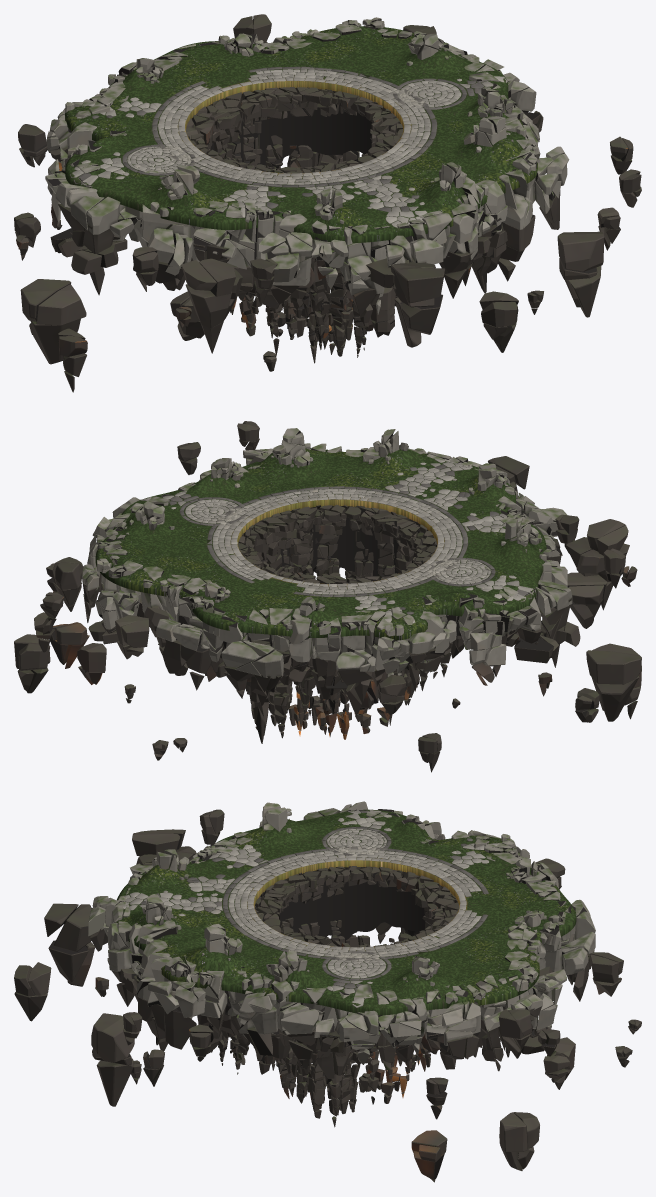
File: EmberIsland.gltf
The picture shows the model from 3 angles, top to bottom: view 1: azimuth 30°, elevation 25°; view 2: azimuth 150°, elevation 25°; view 3: azimuth 270°, elevation 25°; orthographic projection. The views are drawn at different scales.
Parts seen in each view (by area): view 1: Deck, Shards, Cavern, Rock6, Rock5, Rock7, Mass, Rock4, Paving6, Rock0, Paving0, Paving7 (+8 smaller); view 2: Deck, Shards, Cavern, Rock1, Rock2, Rock0, Rock7, Rock3, Paving6, Paving0, Rock6, Rock5 (+8 smaller); view 3: Deck, Shards, Cavern, Rock4, Rock3, Rock5, Rock2, Mass, Paving6, Rock1, Rock6, Paving0 (+8 smaller).
Part boxes in pixels (<box>): Deck: <box>65,26,537,242</box>; Shards: <box>14,14,641,392</box>; Cavern: <box>186,87,403,363</box>; Rock6: <box>231,188,443,357</box>; Rock5: <box>371,116,561,337</box>; Rock7: <box>55,165,254,300</box>; Mass: <box>192,89,372,290</box>; Rock4: <box>328,83,569,354</box>; Paving6: <box>240,166,415,227</box>; Rock0: <box>45,102,126,251</box>; Paving0: <box>70,103,199,183</box>; Paving7: <box>82,150,264,207</box>; Deck: <box>95,448,546,640</box>; Shards: <box>14,421,641,772</box>; Cavern: <box>238,504,445,739</box>; Rock1: <box>219,596,396,738</box>; Rock2: <box>95,560,269,743</box>; Rock0: <box>379,586,554,691</box>; Rock7: <box>484,518,580,667</box>; Rock3: <box>82,496,206,675</box>; Paving6: <box>386,461,519,531</box>; Paving0: <box>364,563,531,623</box>; Rock6: <box>449,456,567,536</box>; Rock5: <box>281,428,451,583</box>; Deck: <box>115,809,576,1015</box>; Shards: <box>14,809,641,1182</box>; Cavern: <box>230,866,481,1118</box>; Rock4: <box>164,938,369,1127</box>; Rock3: <box>345,956,544,1071</box>; Rock5: <box>107,894,238,1053</box>; Rock2: <box>473,910,595,1061</box>; Mass: <box>224,867,481,1036</box>; Paving6: <box>122,846,285,905</box>; Rock1: <box>484,840,595,968</box>; Rock6: <box>88,845,232,1065</box>; Paving0: <box>352,809,498,871</box>.
Bounding box in the file's own units: 48.5 × 21 × 48.66.
7 materials, 7 textured.
